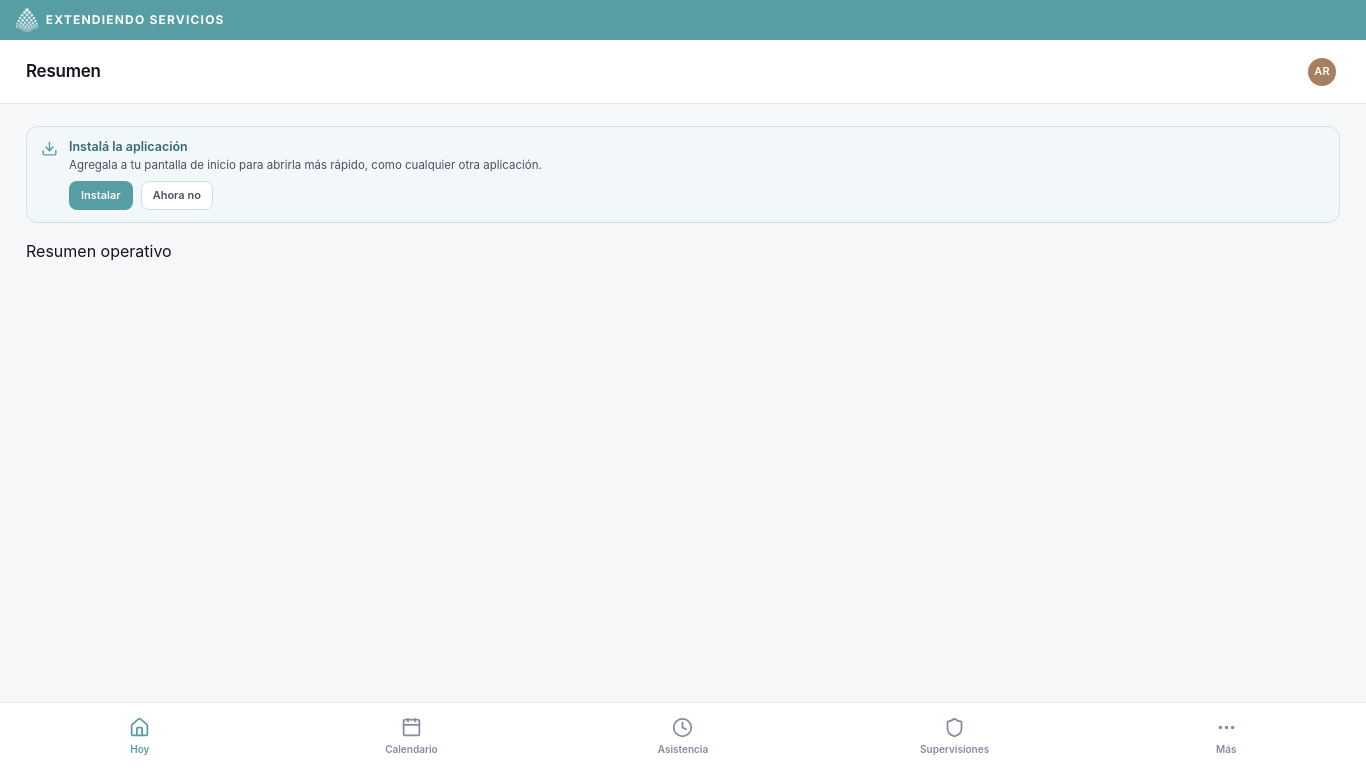
Scenario: AdminShell — banner de instalación (COM-06) › "Ahora no" lo oculta
Click the button "Ahora no" at {"x": 177, "y": 196}, box x1=141 y1=181 x2=213 y2=210
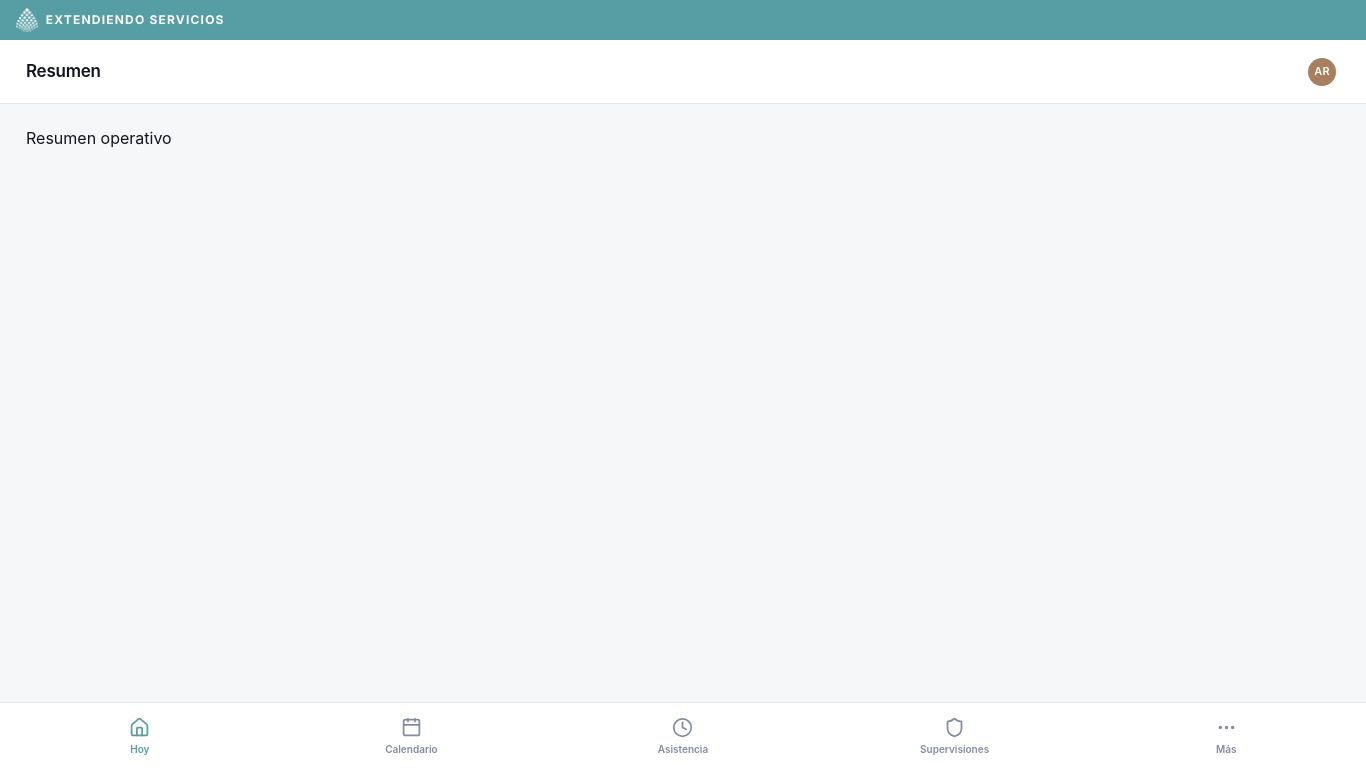
Check: the text "Instalá la aplicación" is gone
